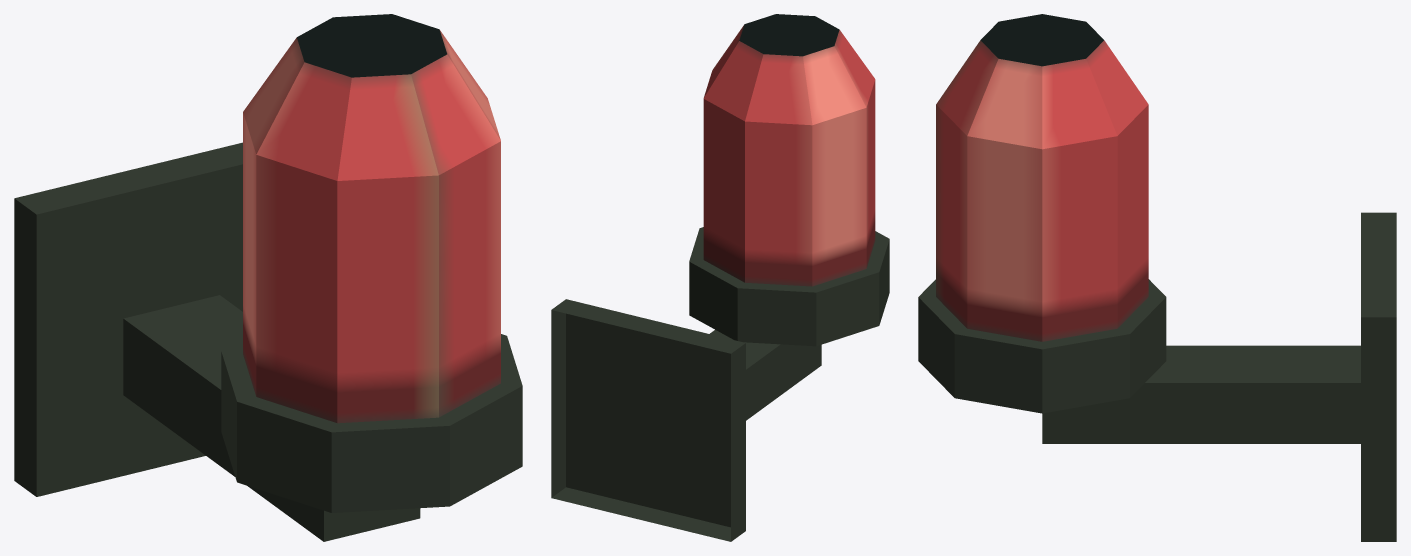
File: SM_Forest_WarningLight_10x30x30.fbx
3 renders of one model, left to right at view 1: azimuth 30°, elevation 25°; view 2: azimuth 150°, elevation 25°; view 3: azimuth 270°, elevation 25°, orthographic. The views are drawn at different scales.
Parts seen in each view (by area): view 1: SM_Forest_WarningLight_10x30x30.002; view 2: SM_Forest_WarningLight_10x30x30.002; view 3: SM_Forest_WarningLight_10x30x30.002.
Boxes of the visible parts, x1,y1,x2,y2 form: SM_Forest_WarningLight_10x30x30.002: (14, 14, 522, 541); SM_Forest_WarningLight_10x30x30.002: (551, 14, 889, 541); SM_Forest_WarningLight_10x30x30.002: (918, 14, 1396, 541).
Size of the model in its own units: 0.14 by 0.28 by 0.27.
